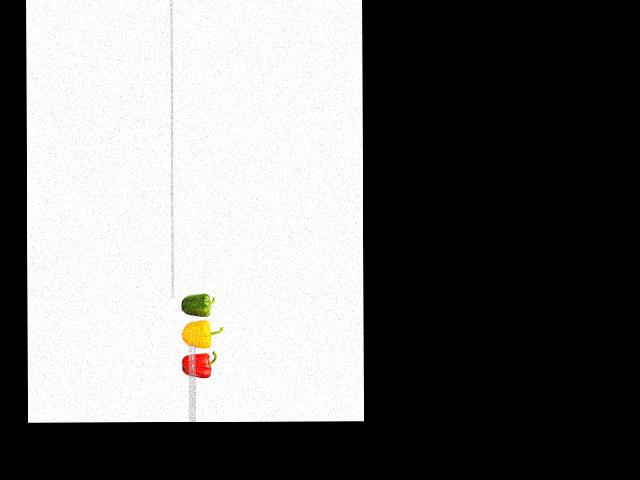bell_pepper: (179, 290, 219, 316)
